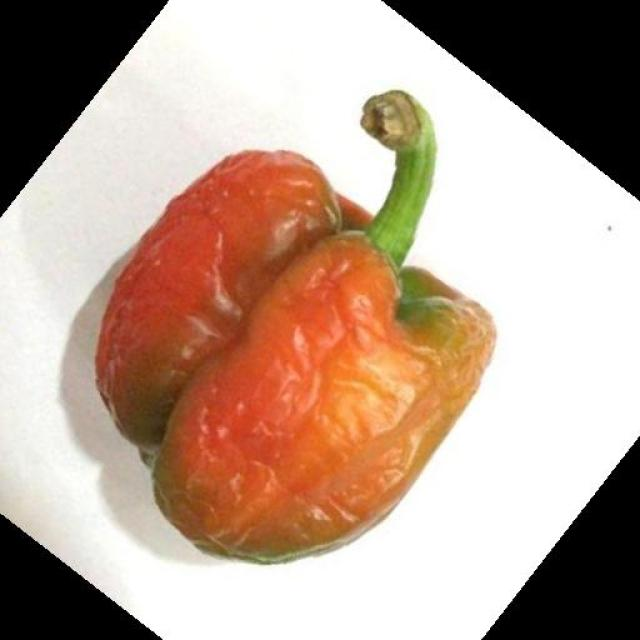Stale_Capsicum: (91, 72, 487, 578)
